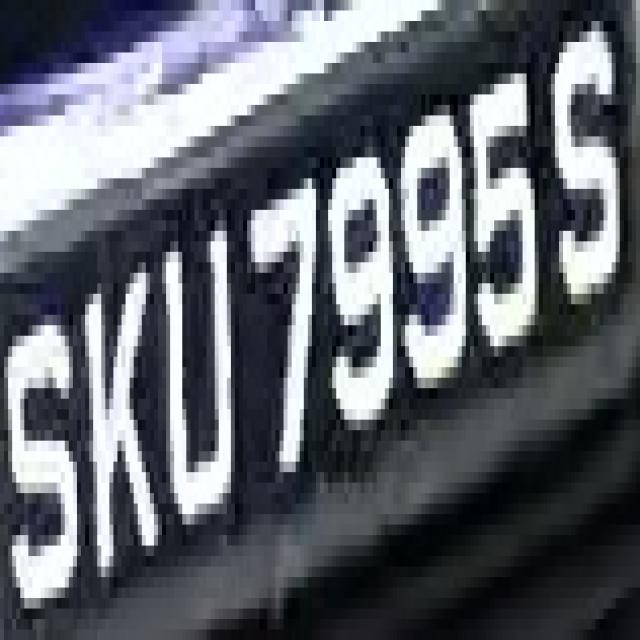5: (462, 63, 551, 409)
7: (239, 147, 328, 503)
9: (312, 126, 401, 430), (389, 94, 466, 420)
K: (69, 231, 158, 577)
S: (535, 31, 628, 336), (0, 4, 1, 11)
U: (162, 210, 247, 545)
